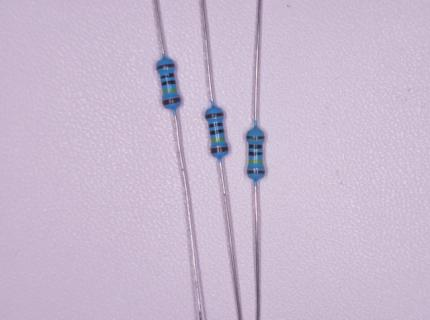Black band: (209, 128, 224, 136), (161, 79, 176, 86), (160, 73, 175, 80), (208, 122, 223, 129), (248, 144, 262, 149), (248, 151, 261, 156)
Brown band: (210, 144, 230, 154), (157, 62, 177, 70), (160, 97, 180, 105), (204, 112, 224, 119), (246, 169, 265, 175), (246, 136, 264, 141)
Yellow band: (162, 87, 176, 94), (210, 137, 224, 143), (248, 159, 262, 164)
